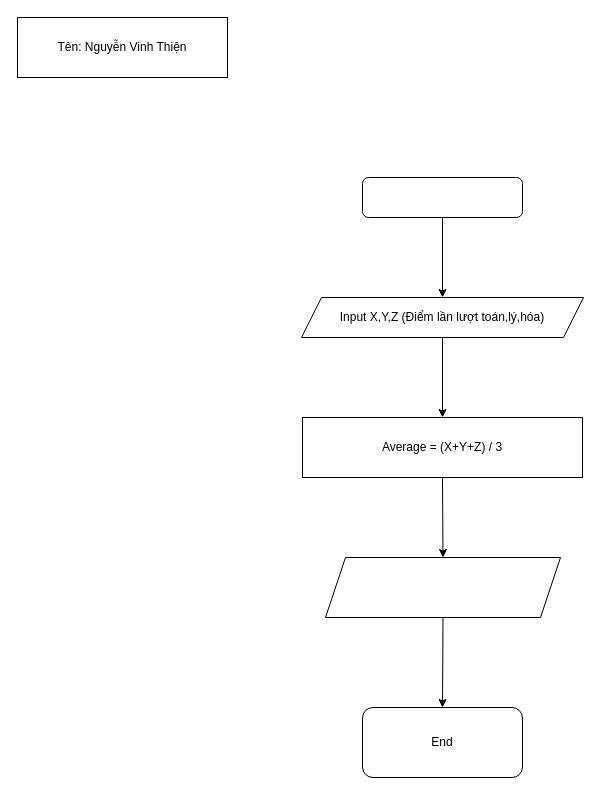
This 601x795 diagram has some shape labels left out. Each missing label, with the box of its shape:
Begin: (362, 176, 522, 218)
Output Average: (324, 556, 560, 618)
